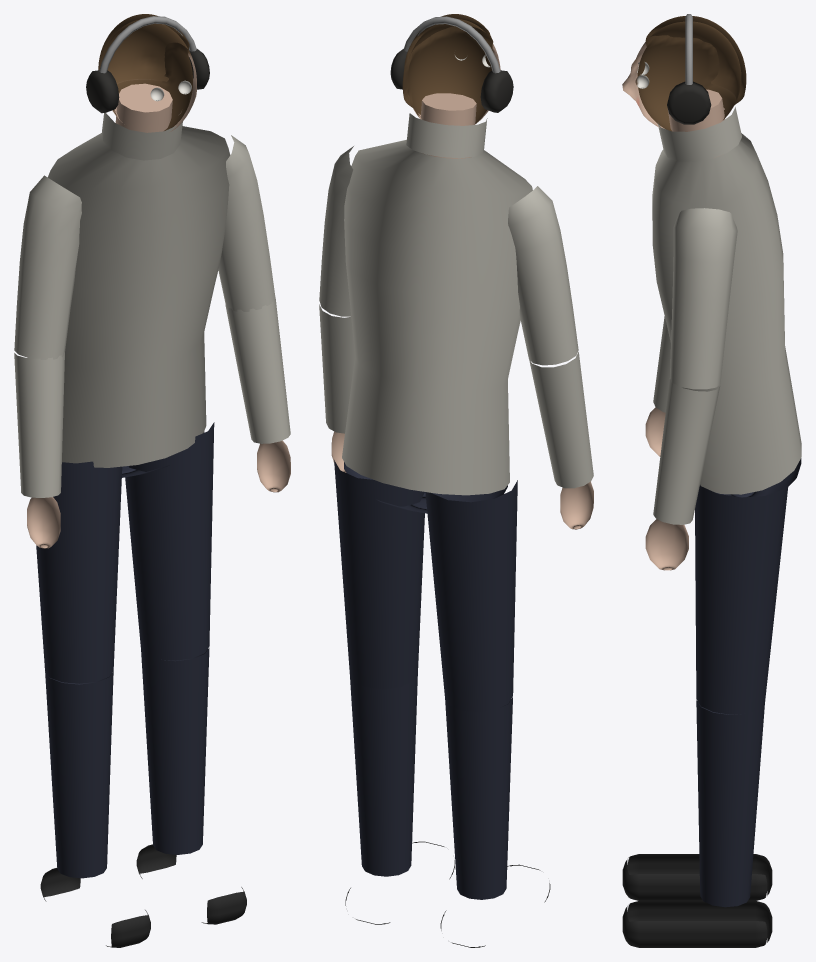
The model's file is sonar_standing.glb.
3 views of the same model, side by side, from view 1: azimuth 30°, elevation 25°; view 2: azimuth 150°, elevation 25°; view 3: azimuth 270°, elevation 25° (orthographic).
Visible parts, largest first — view 1: body, head; view 2: body, head; view 3: body, head.
Boxes of the visible parts, <box> form: body: <box>14,83,290,947</box>; head: <box>86,14,209,132</box>; body: <box>319,93,593,947</box>; head: <box>390,14,513,123</box>; body: <box>622,89,801,947</box>; head: <box>622,14,746,131</box>.
Bounding box in the file's own units: 0.5518 × 1.79 × 0.3231.
